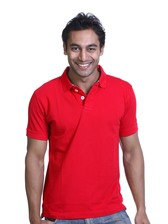clothoes: (17, 64, 141, 216)
